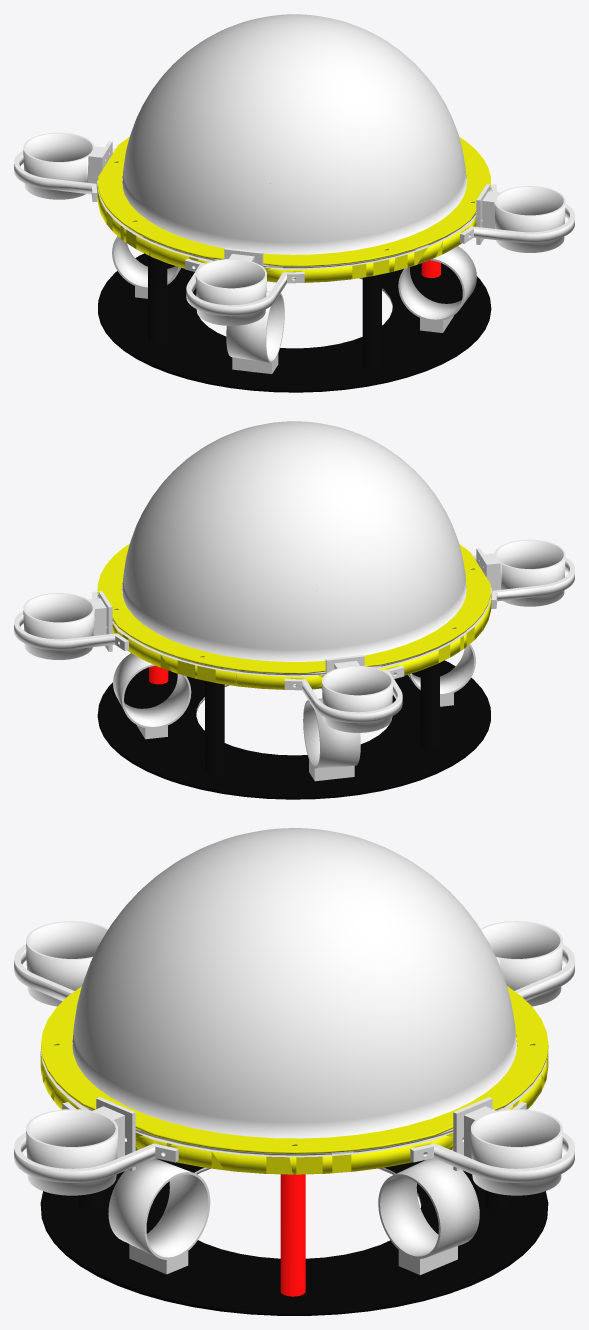
File: ARMsROV_no_props.dae
3 renders of one model, top to bottom at view 1: azimuth 30°, elevation 25°; view 2: azimuth 150°, elevation 25°; view 3: azimuth 270°, elevation 25°, orthographic. The views are drawn at different scales.
Visible parts, largest first — view 1: VIFS019, VIFS010, VIFS020, VIFS001, VIFS018, VIFS016, VIFS017, VIFS011, VIFS012, VIFS002, VIFS005, VIFS014 (+1 smaller); view 2: VIFS019, VIFS010, VIFS020, VIFS001, VIFS015, VIFS017, VIFS016, VIFS014, VIFS013, VIFS003, VIFS004, VIFS011 (+1 smaller); view 3: VIFS019, VIFS010, VIFS020, VIFS013, VIFS012, VIFS001, VIFS015, VIFS018, VIFS017, VIFS016, VIFS005, VIFS004 (+4 smaller).
Part boxes in pixels (x1,y1,x2,y2): VIFS019: (116,14,476,268); VIFS010: (98,253,491,392); VIFS020: (98,136,490,266); VIFS001: (97,180,491,282); VIFS018: (482,186,565,252); VIFS016: (23,132,104,199); VIFS017: (195,254,266,325); VIFS011: (226,291,284,373); VIFS012: (398,246,476,332); VIFS002: (185,258,304,316); VIFS005: (460,184,574,243); VIFS014: (112,236,180,298); VIFS019: (112,421,472,675); VIFS010: (97,660,490,799); VIFS020: (97,544,490,673); VIFS001: (97,587,491,689); VIFS015: (23,593,106,659); VIFS017: (484,539,565,606); VIFS016: (322,661,393,732); VIFS014: (303,698,360,781); VIFS013: (113,653,191,739); VIFS003: (284,665,404,723); VIFS004: (14,591,128,650); VIFS011: (408,644,475,706); VIFS019: (55,828,533,1155); VIFS010: (40,1158,548,1315); VIFS020: (41,986,548,1153); VIFS013: (378,1158,479,1274); VIFS012: (108,1158,210,1274); VIFS001: (40,1049,548,1174); VIFS015: (464,1106,562,1195); VIFS018: (26,1106,124,1195); VIFS017: (26,921,108,1006); VIFS016: (480,921,562,1006); VIFS005: (14,1102,178,1182); VIFS004: (410,1102,574,1182).
Bounding box in the file's own units: 0.442 × 0.442 × 0.313.
